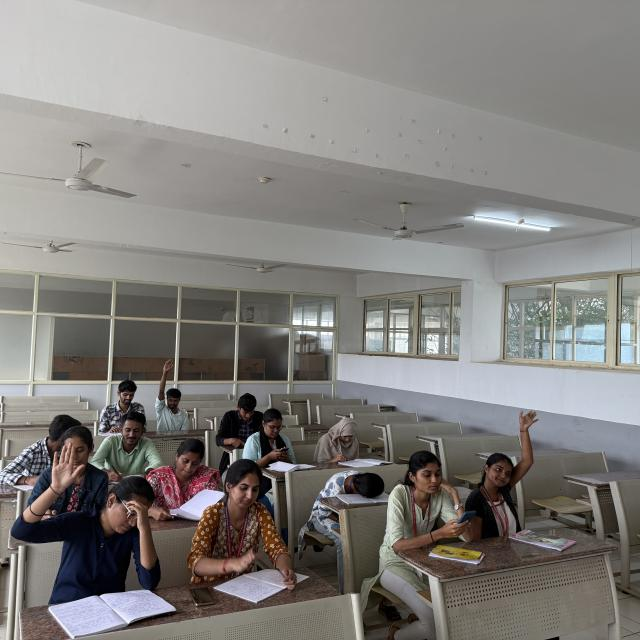Hand Rising: (24, 438, 165, 582), (467, 401, 548, 520), (150, 351, 192, 431)
Reading: (193, 462, 301, 596), (146, 436, 223, 512)
Sleeping: (308, 466, 389, 504)
Using Phone: (378, 447, 476, 548), (246, 408, 303, 473)
Writing: (96, 408, 162, 481), (309, 409, 387, 464), (210, 390, 264, 449)
